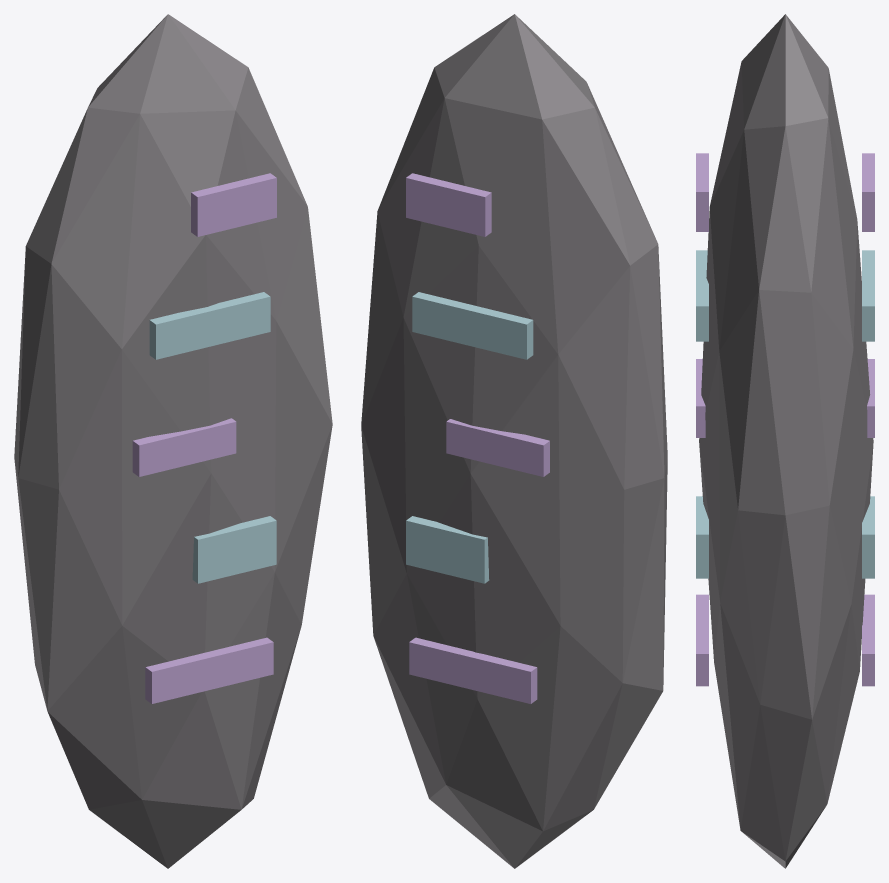
Rendered from rune_stone.glb.
3 renders of one model, left to right at view 1: azimuth 30°, elevation 25°; view 2: azimuth 150°, elevation 25°; view 3: azimuth 270°, elevation 25°, orthographic.
Parts seen in each view (by area): view 1: rune_stone; view 2: rune_stone; view 3: rune_stone.
Part boxes in pixels (x1=…): rune_stone: x1=14, y1=14, x2=332, y2=868; rune_stone: x1=361, y1=14, x2=667, y2=868; rune_stone: x1=696, y1=14, x2=874, y2=868.
Size of the model in its own units: 0.7 by 1.9 by 0.36.
